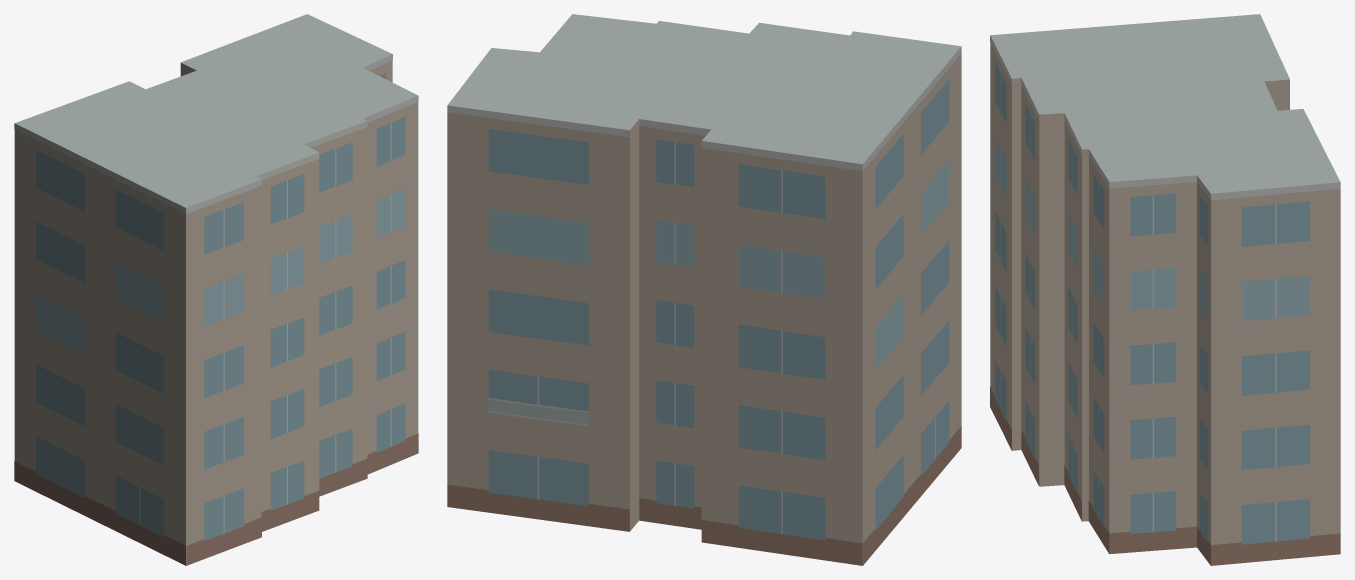
File: survey-upis-32641601.glb
3 renders of one model, left to right at view 1: azimuth 30°, elevation 25°; view 2: azimuth 150°, elevation 25°; view 3: azimuth 270°, elevation 25°, orthographic. The views are drawn at different scales.
Visible parts, largest first — view 1: survey-upis-32641601.tmp; view 2: survey-upis-32641601.tmp; view 3: survey-upis-32641601.tmp.
Boxes of the visible parts, x1,y1,x2,y2 form: survey-upis-32641601.tmp: [14, 14, 418, 565]; survey-upis-32641601.tmp: [447, 14, 961, 565]; survey-upis-32641601.tmp: [990, 14, 1340, 565].
Bounding box in the file's own units: 14.53 × 14 × 11.96.
